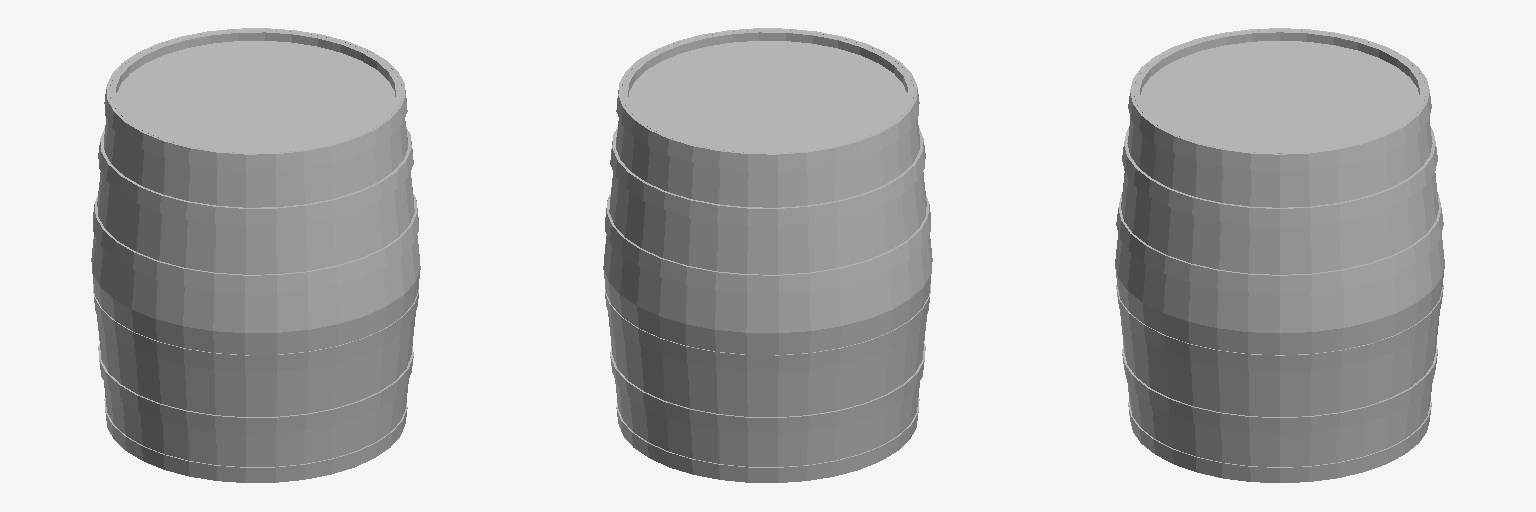
The model's file is barrel2.obj.
The picture shows the model from 3 angles: view 1: azimuth 30°, elevation 25°; view 2: azimuth 150°, elevation 25°; view 3: azimuth 270°, elevation 25°; orthographic projection.
Visible parts, largest first — view 1: Cylinder; view 2: Cylinder; view 3: Cylinder.
Part boxes in pixels (bbox=[...]): Cylinder: bbox=[91, 28, 420, 482]; Cylinder: bbox=[603, 28, 932, 482]; Cylinder: bbox=[1115, 28, 1444, 482].
Bounding box in the file's own units: 81.49 × 89.68 × 81.49.